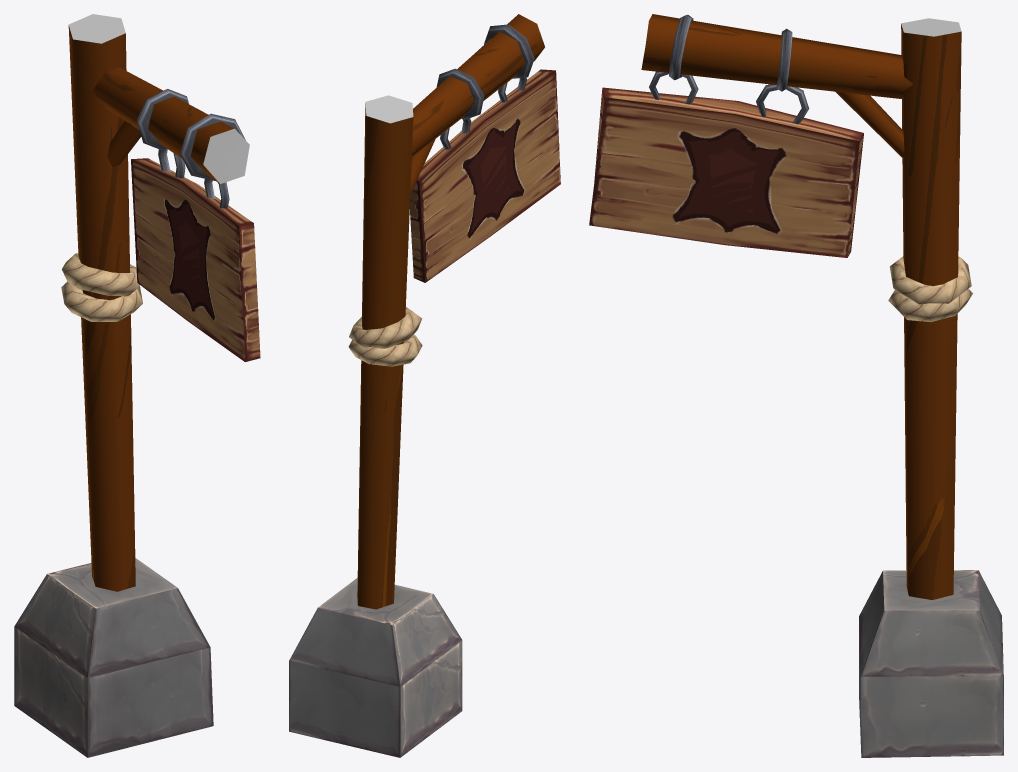
The model's file is SM_PROP_sign_06.fbx.
3 renders of one model, left to right at view 1: azimuth 30°, elevation 25°; view 2: azimuth 150°, elevation 25°; view 3: azimuth 270°, elevation 25°, orthographic. The views are drawn at different scales.
Parts seen in each view (by area): view 1: SM_PROP_sign_06; view 2: SM_PROP_sign_06; view 3: SM_PROP_sign_06.
Part boxes in pixels (bbox=[...]): SM_PROP_sign_06: bbox=[14, 14, 260, 757]; SM_PROP_sign_06: bbox=[289, 14, 560, 757]; SM_PROP_sign_06: bbox=[589, 14, 1003, 757].
Size of the model in its own units: 65.51 by 340 by 183.
